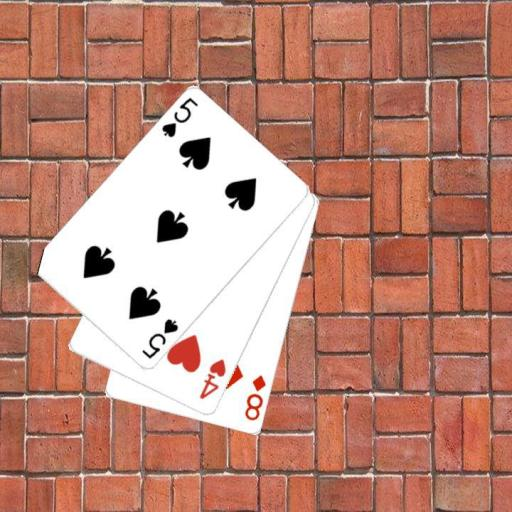4H: (196, 356, 228, 402)
5S: (139, 316, 181, 361), (158, 95, 200, 140)
8D: (241, 372, 268, 422)
